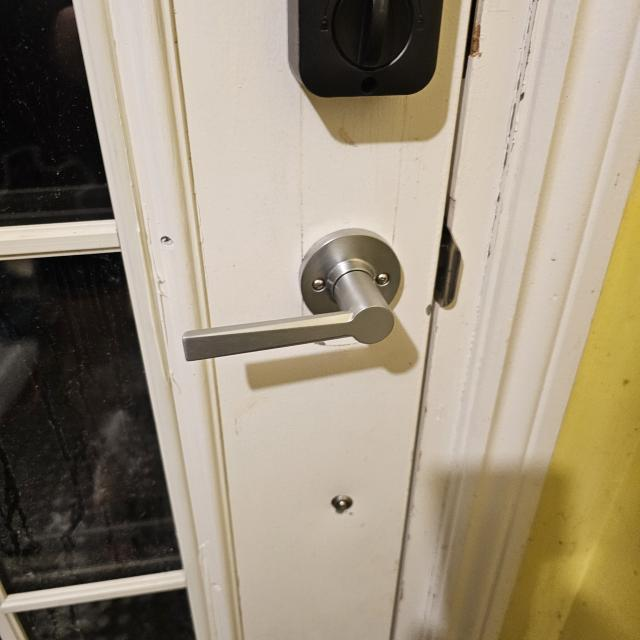door-handle: (182, 229, 401, 360)
